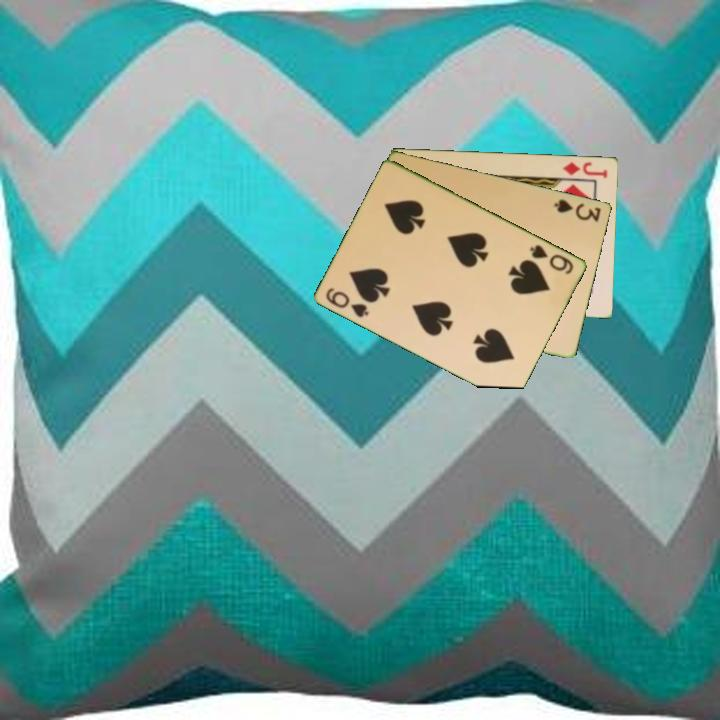3s: (551, 195, 604, 224)
6s: (526, 241, 577, 277), (323, 284, 372, 320)
Jd: (559, 158, 611, 180)
